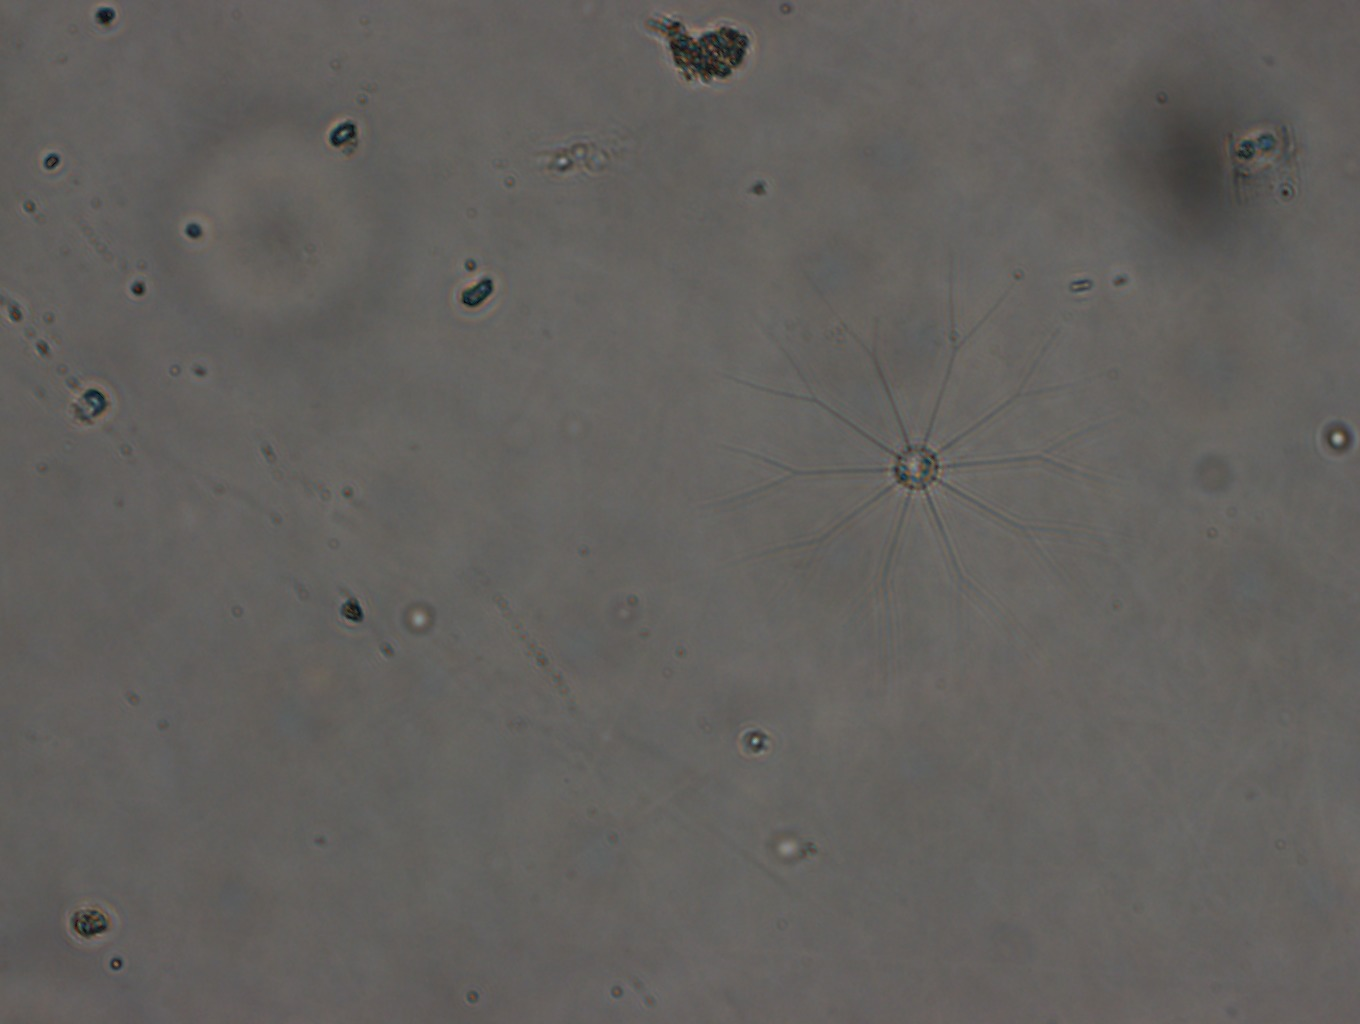bacteriastrum: (711, 245, 1140, 658)
